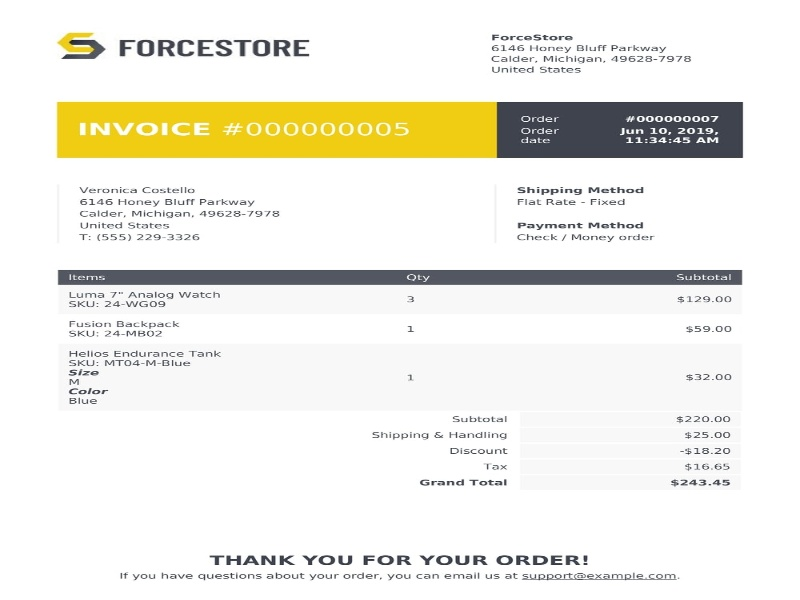invoice_detail: (76, 181, 283, 243)
table: (58, 269, 743, 405)
total: (415, 473, 736, 492)
